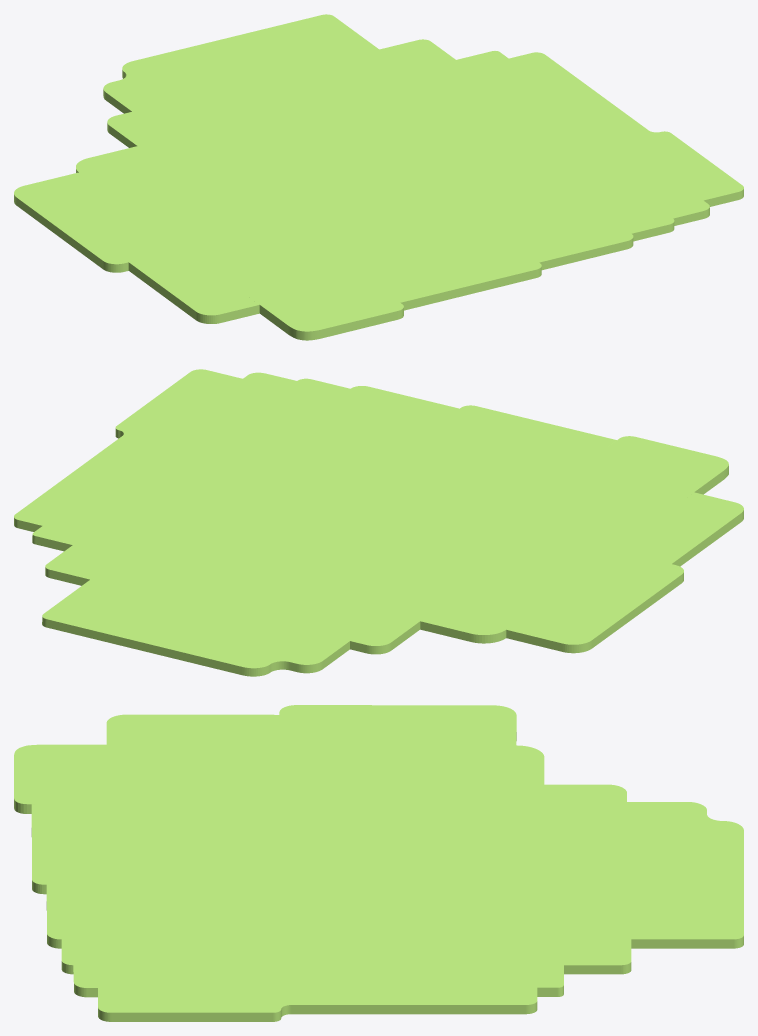
File: ground_noroad.glb
3 renders of one model, top to bottom at view 1: azimuth 30°, elevation 25°; view 2: azimuth 150°, elevation 25°; view 3: azimuth 270°, elevation 25°, orthographic. The views are drawn at different scales.
Parts seen in each view (by area): view 1: Cube; view 2: Cube; view 3: Cube.
Part boxes in pixels (<box>): Cube: <box>14,14,743,340</box>; Cube: <box>14,369,743,676</box>; Cube: <box>14,705,743,1021</box>.
Bounding box in the file's own units: 413 × 6.34 × 414.
